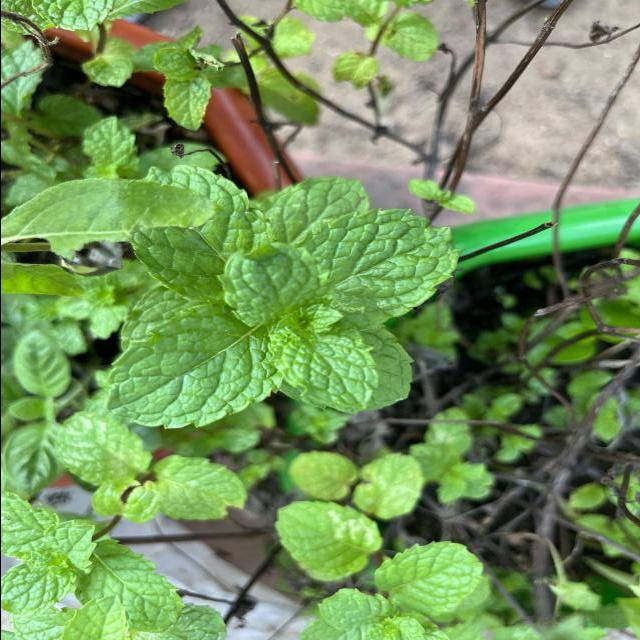Mentha spicata: (94, 300, 280, 430), (303, 206, 461, 320), (264, 309, 377, 414), (216, 228, 332, 326)
